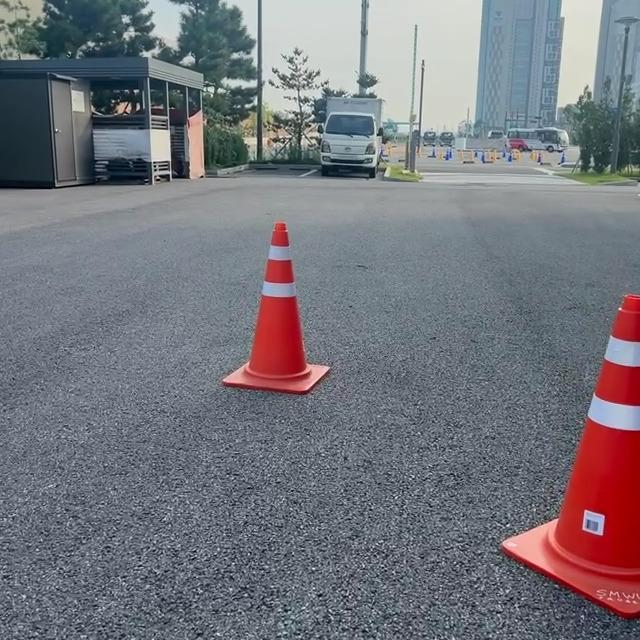fallen_object: (477, 277, 640, 563), (167, 207, 363, 432)
